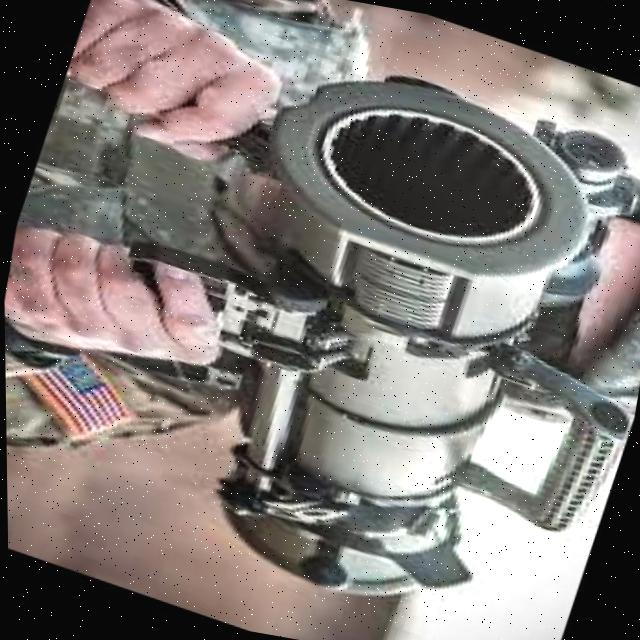rocket: (107, 11, 640, 640)
